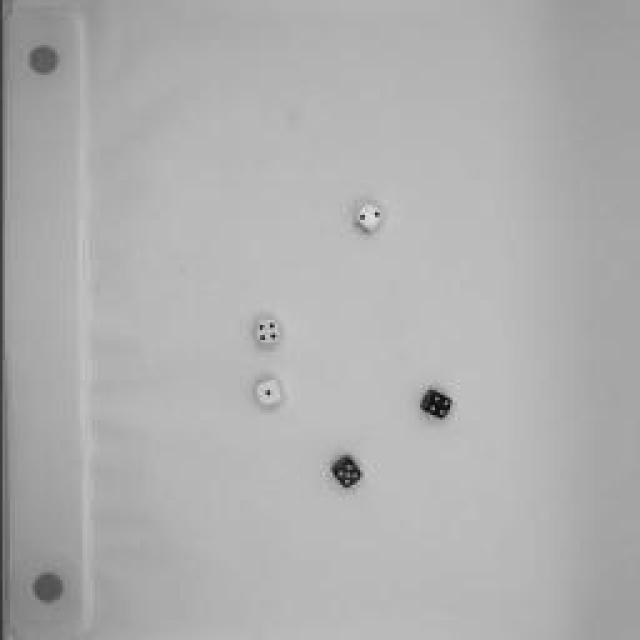dice_1: (251, 371, 284, 409)
dice_2: (350, 200, 388, 238)
dice_4: (415, 384, 460, 426), (246, 314, 284, 351)
dice_5: (324, 454, 366, 496)
